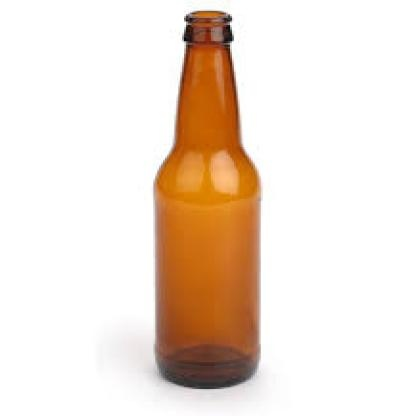trash: (155, 11, 259, 387)
